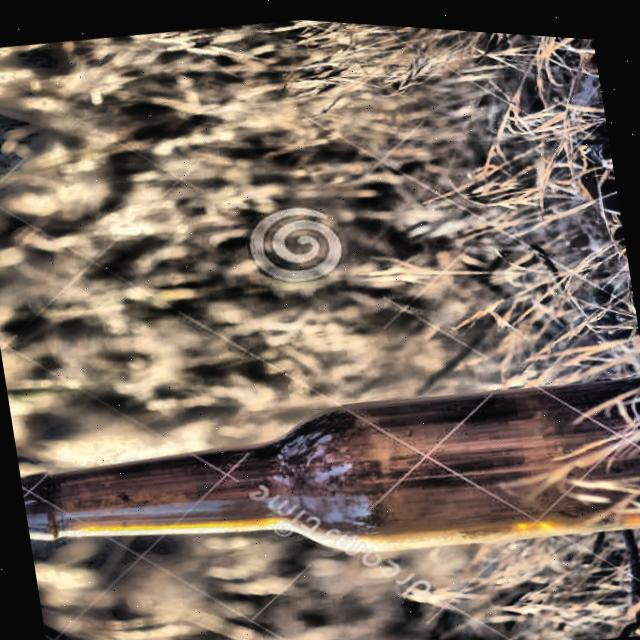glass: (21, 365, 640, 545)
